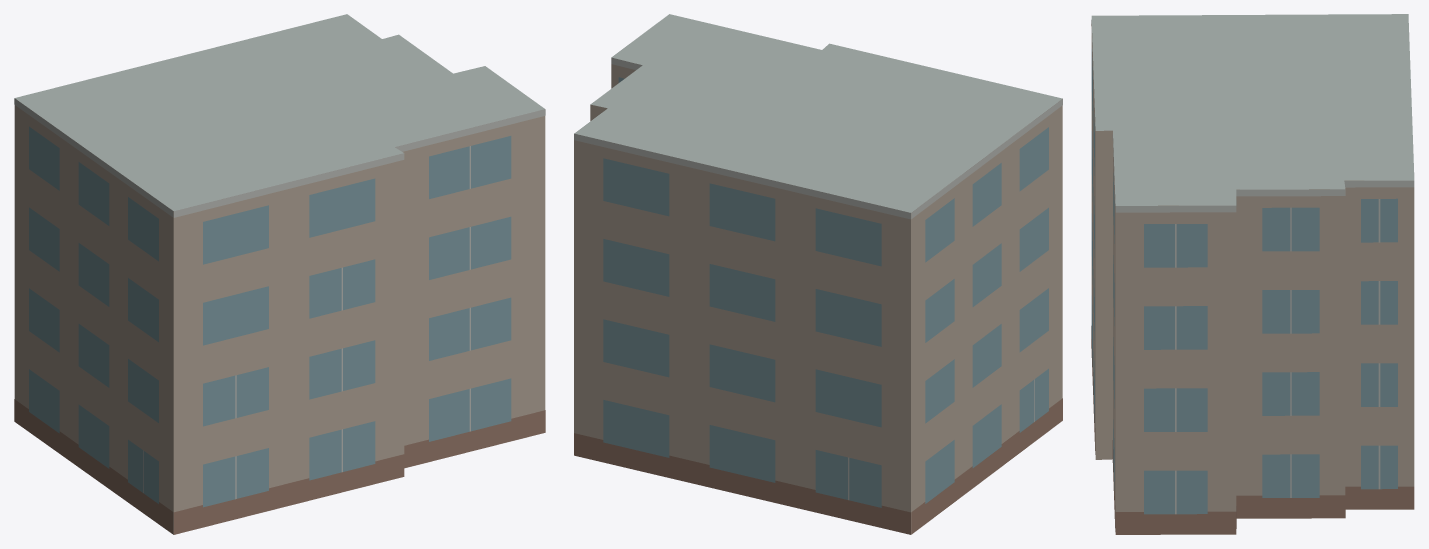
File: survey-upis-32720009.glb
3 views of the same model, side by side, from view 1: azimuth 30°, elevation 25°; view 2: azimuth 150°, elevation 25°; view 3: azimuth 270°, elevation 25° (orthographic). The views are drawn at different scales.
Visible parts, largest first — view 1: survey-upis-32720009.tmp; view 2: survey-upis-32720009.tmp; view 3: survey-upis-32720009.tmp.
Boxes of the visible parts, bbox=[...] form: survey-upis-32720009.tmp: bbox=[14, 14, 545, 534]; survey-upis-32720009.tmp: bbox=[574, 14, 1062, 534]; survey-upis-32720009.tmp: bbox=[1091, 14, 1414, 534].
Bounding box in the file's own units: 14.9 × 11.9 × 10.6.
